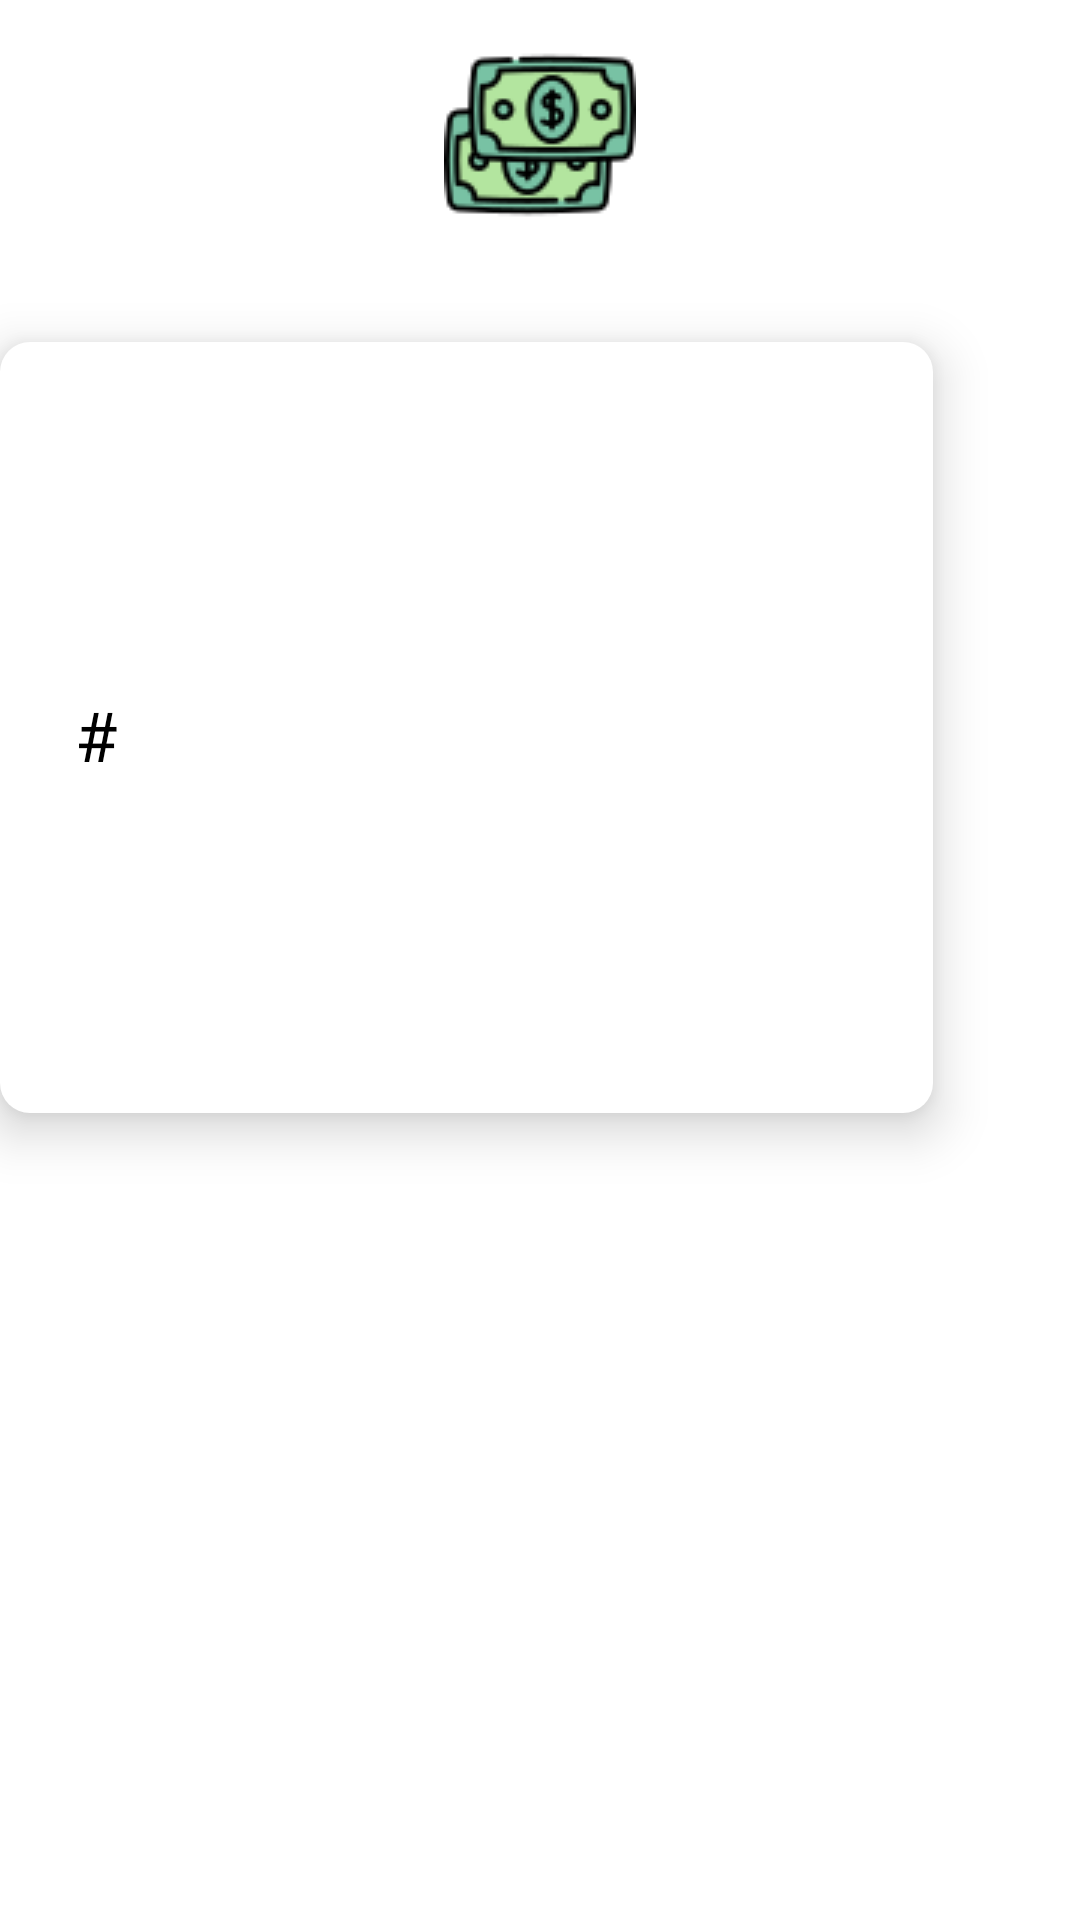

Screen size 1080 × 1920. Icon name, then its center in pixels as (x,y):
efectivo: (540,135)
